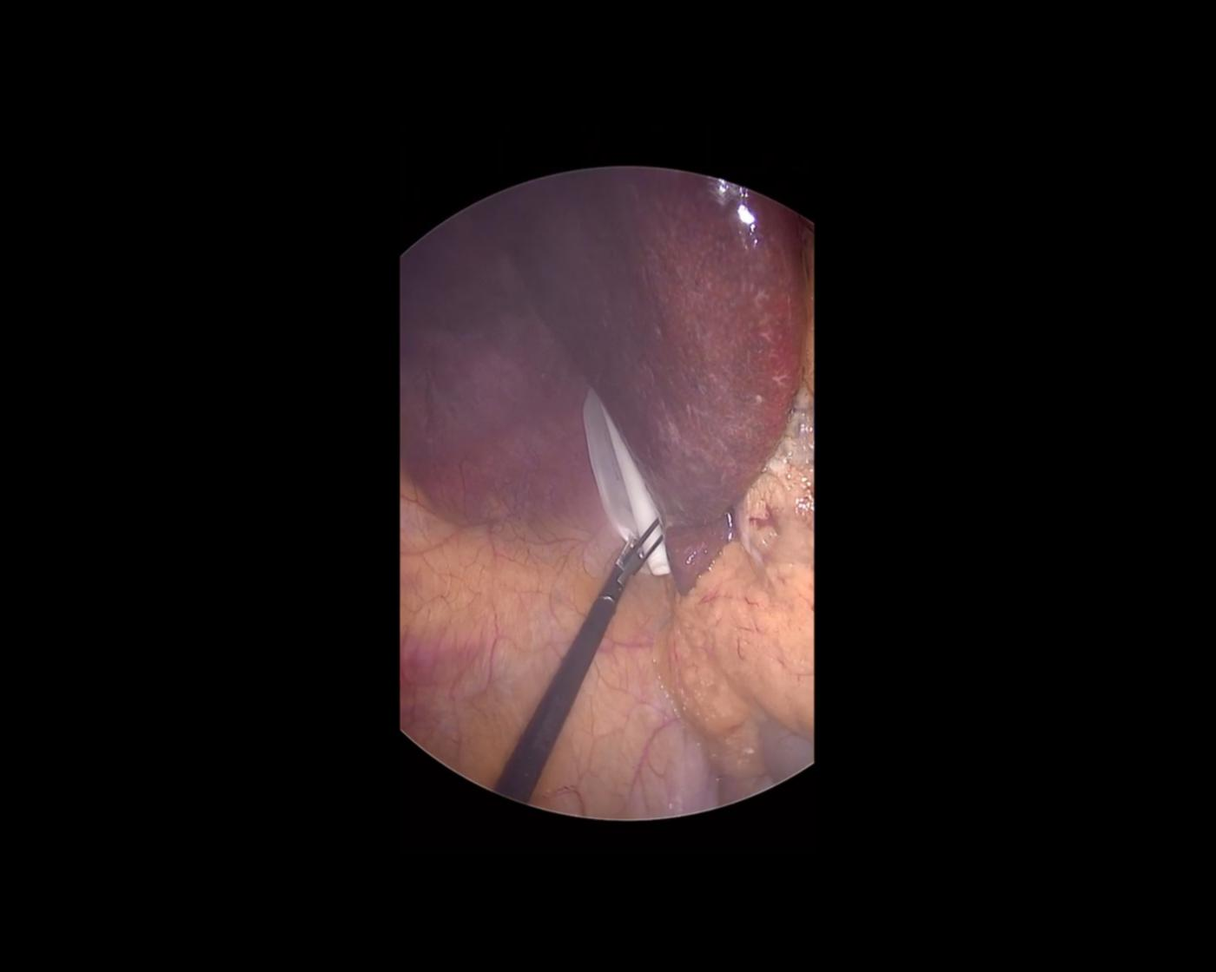Bag: (550, 386, 682, 584)
Forceps: (494, 507, 670, 806)
Gallbladder: (732, 372, 814, 566)
Liver: (487, 138, 854, 614)
